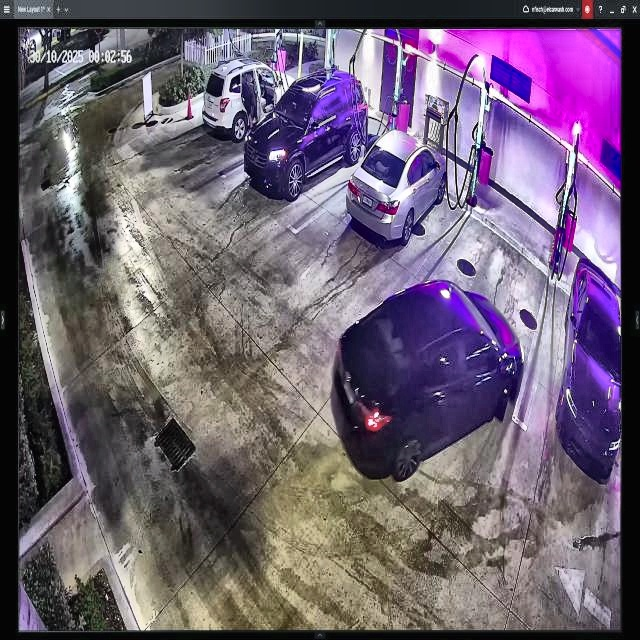Car: (338, 282, 522, 478), (244, 71, 366, 200), (346, 132, 447, 242), (203, 57, 297, 144)
